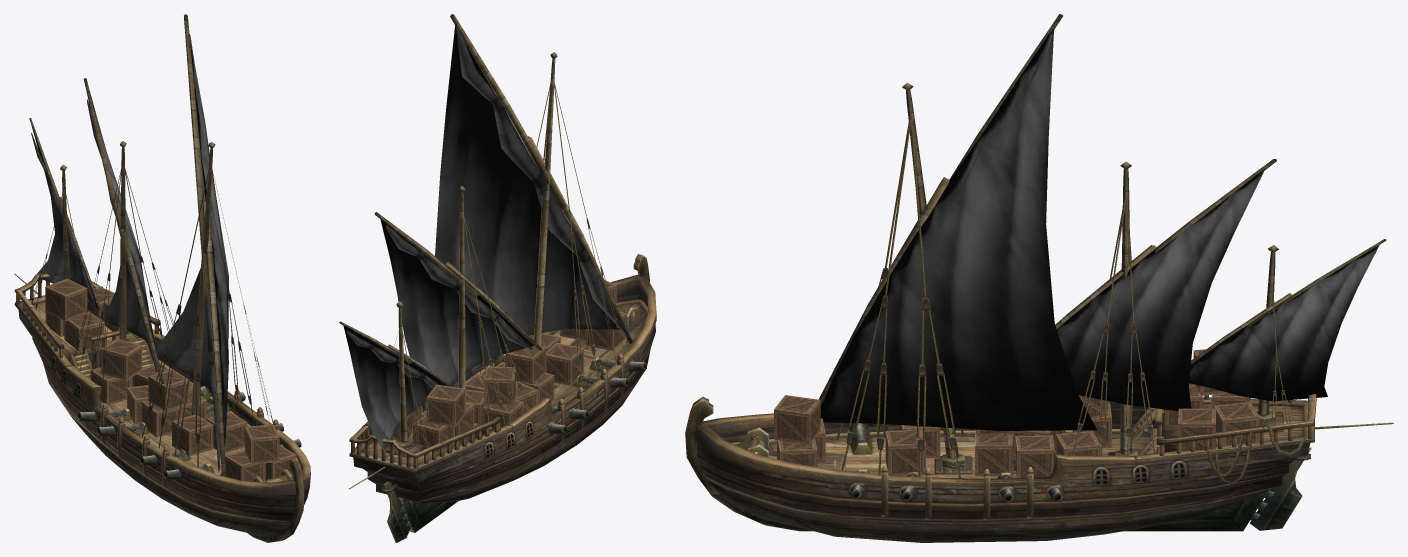
File: T_Ship_Mate_02.fbx
3 views of the same model, side by side, from view 1: azimuth 30°, elevation 25°; view 2: azimuth 150°, elevation 25°; view 3: azimuth 270°, elevation 25° (orthographic). The views are drawn at different scales.
Visible parts, largest first — view 1: T_Ship_01_p2, T_Ship_01, T_Ship_p1, T_Ship_01_p3, T_Ship_p1_off, T_Box07, T_Box12, T_Box04, T_Box17, T_Box16, T_Box08, T_Ship_01_p4 (+8 smaller); view 2: T_Ship_p1, T_Ship_01_p2, T_Ship_01, T_Ship_p1_off, T_Ship_01_p3, T_Box07, T_Box17, T_Ship_01_p4, T_Box04, T_Box12, T_Ship_01_p5, T_Box05 (+6 smaller); view 3: T_Ship_p1, T_Ship_01_p2, T_Ship_01, T_Ship_01_p3, T_Ship_01_p4, T_Box16, T_Ship_01_p5, T_Box18, T_Box10, T_Box03, T_Box06, T_Box13 (+2 smaller).
Part boxes in pixels (x1,y1,x2,y2): T_Ship_01_p2: (14,295,310,523); T_Ship_01: (14,14,292,482); T_Ship_p1: (31,40,228,446); T_Ship_01_p3: (72,417,290,538); T_Ship_p1_off: (31,34,220,470); T_Box07: (45,278,87,320); T_Box12: (101,338,142,380); T_Box04: (148,369,189,411); T_Box17: (172,414,213,456); T_Box16: (245,424,279,464); T_Box08: (64,311,104,351); T_Ship_01_p4: (247,458,304,542); T_Ship_p1: (343,25,619,450); T_Ship_01_p2: (349,274,656,501); T_Ship_01: (339,14,646,489); T_Ship_p1_off: (347,29,627,388); T_Ship_01_p3: (417,386,634,503); T_Box07: (426,384,465,427); T_Box17: (546,343,583,385); T_Ship_01_p4: (397,254,649,532); T_Box04: (505,345,546,384); T_Box12: (484,366,515,406); T_Ship_01_p5: (381,481,411,542); T_Box05: (412,415,454,452); T_Ship_p1: (820,28,1379,430); T_Ship_01_p2: (694,397,1314,522); T_Ship_01: (736,14,1393,484); T_Ship_01_p3: (708,480,1280,542); T_Ship_01_p4: (685,397,1268,531); T_Box16: (774,395,820,444); T_Ship_01_p5: (1250,447,1311,530); T_Box18: (885,429,925,476); T_Box10: (1015,435,1054,477); T_Box03: (975,431,1012,476); T_Box06: (1178,408,1215,450); T_Box13: (1214,402,1259,445).
Bounding box in the file's own units: 1.72 × 4.91 × 5.86.
3 materials, 3 textured.
